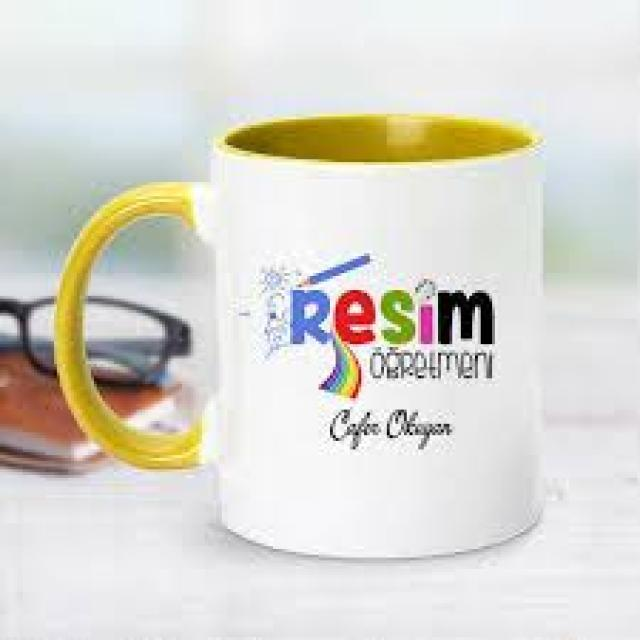taza: (54, 110, 548, 558)
